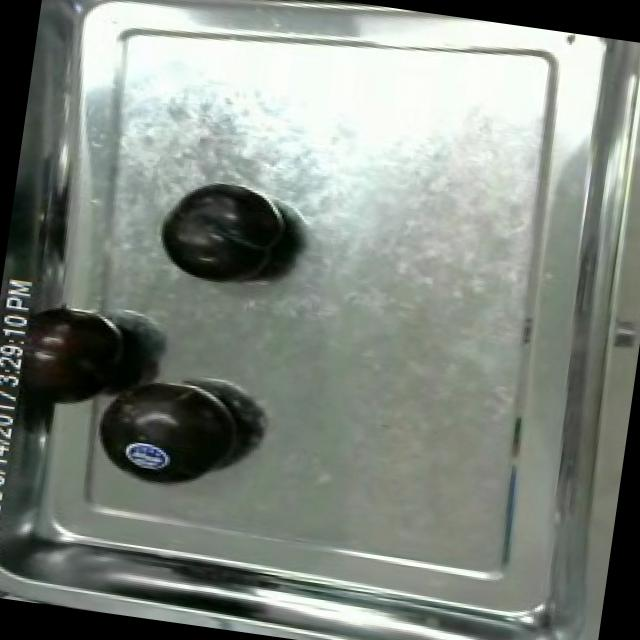Fruit: (148, 175, 300, 299), (113, 429, 183, 482)
